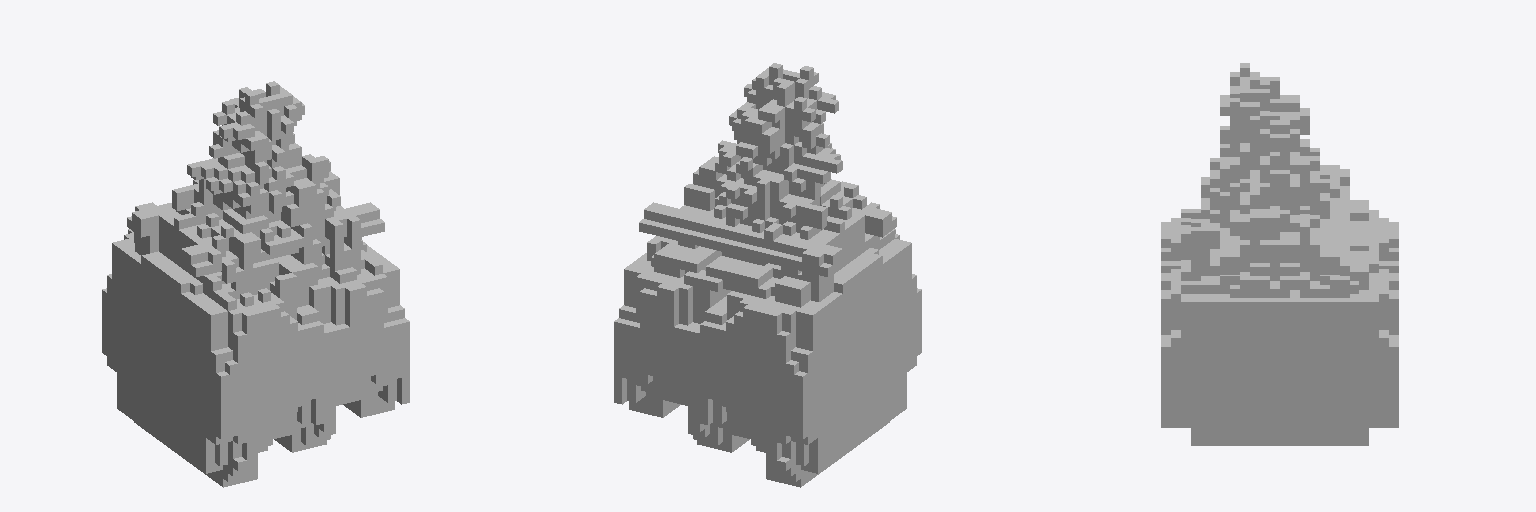
Rendered from rail fire.obj.
3 views of the same model, side by side, from view 1: azimuth 30°, elevation 25°; view 2: azimuth 150°, elevation 25°; view 3: azimuth 270°, elevation 25° (orthographic).
Visible parts, largest first — view 1: object 1; view 2: object 1; view 3: object 1.
Boxes of the visible parts, <box> form: object 1: <box>102,81,409,487</box>; object 1: <box>614,63,921,487</box>; object 1: <box>1161,63,1398,445</box>.
Bounding box in the file's own units: 2.2 × 4 × 2.4.